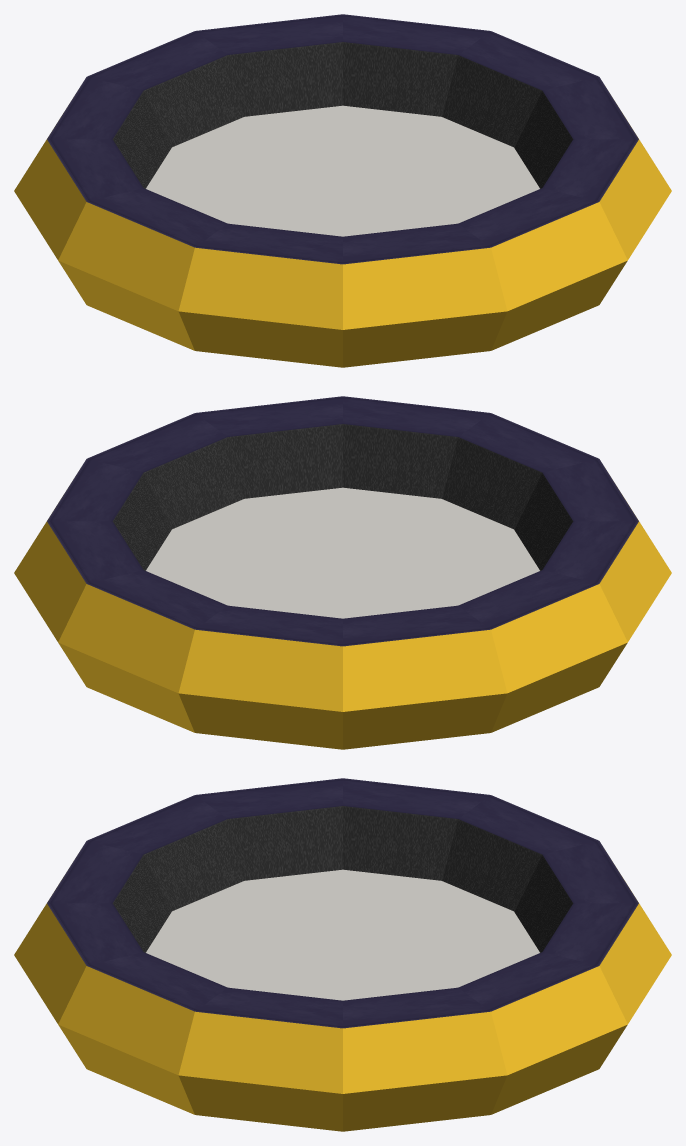
File: Untersetzer.fbx
The picture shows the model from 3 angles, top to bottom: view 1: azimuth 30°, elevation 25°; view 2: azimuth 150°, elevation 25°; view 3: azimuth 270°, elevation 25°; orthographic projection.
Parts seen in each view (by area): view 1: Untersetzer; view 2: Untersetzer; view 3: Untersetzer.
Part boxes in pixels (bbox=[...]): Untersetzer: bbox=[14, 14, 671, 367]; Untersetzer: bbox=[14, 396, 671, 749]; Untersetzer: bbox=[14, 778, 671, 1131].
Size of the model in its own units: 25.44 by 4.41 by 25.44.
